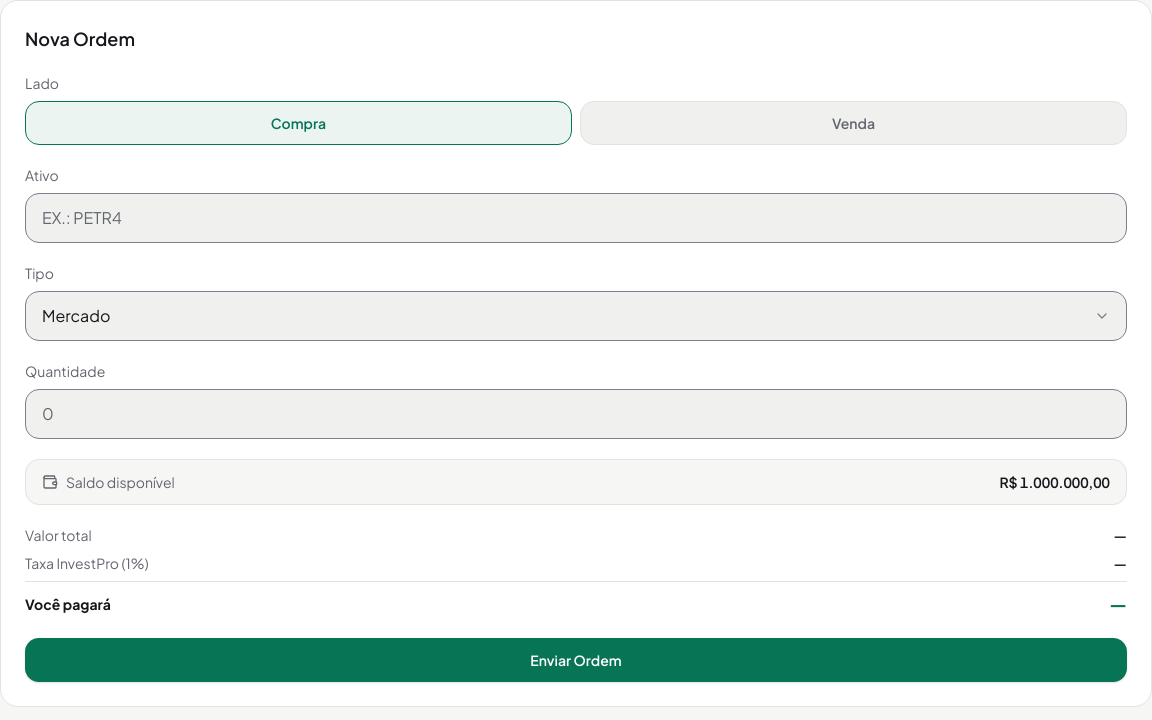
Test case: NewOrderForm › saldo verificado antes de enviar (compra) › venda a mercado só usa a posição livre (sem o que está em vendas abertas)
Click the button "Venda" at coordinates (854, 123), box [580, 101, 1127, 145]
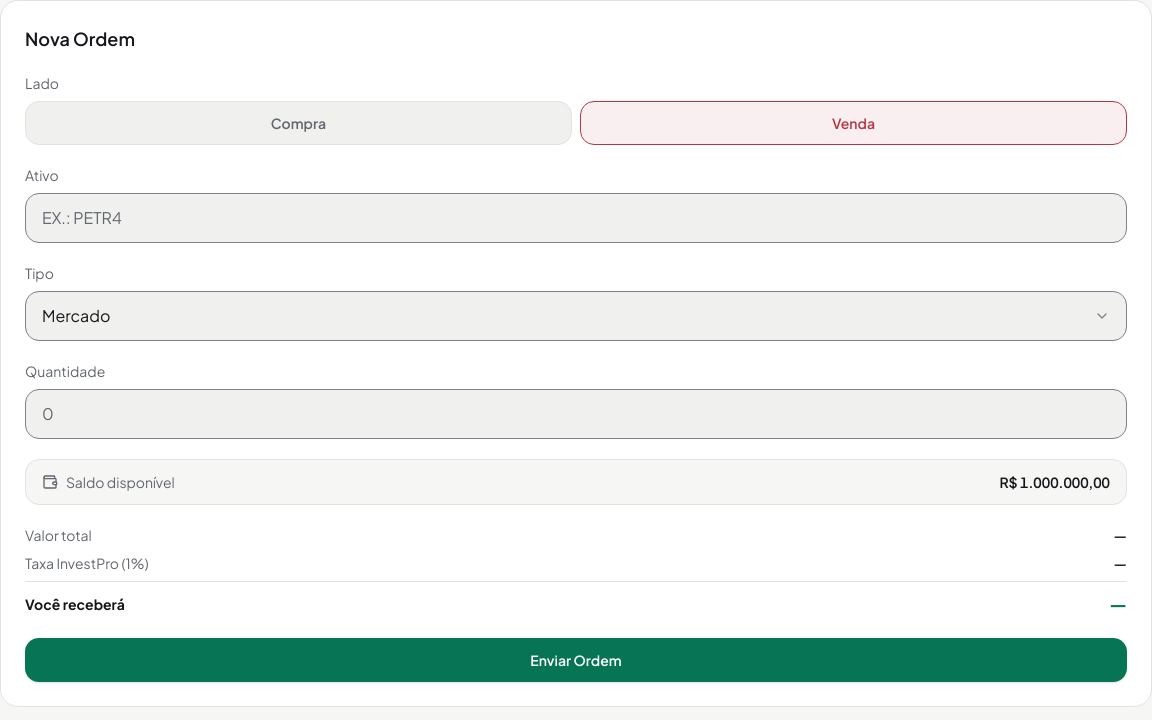
Type "PETR4" into the dropdown with placeholder "ex.: PETR4" at coordinates (576, 218), box [25, 193, 1127, 243]
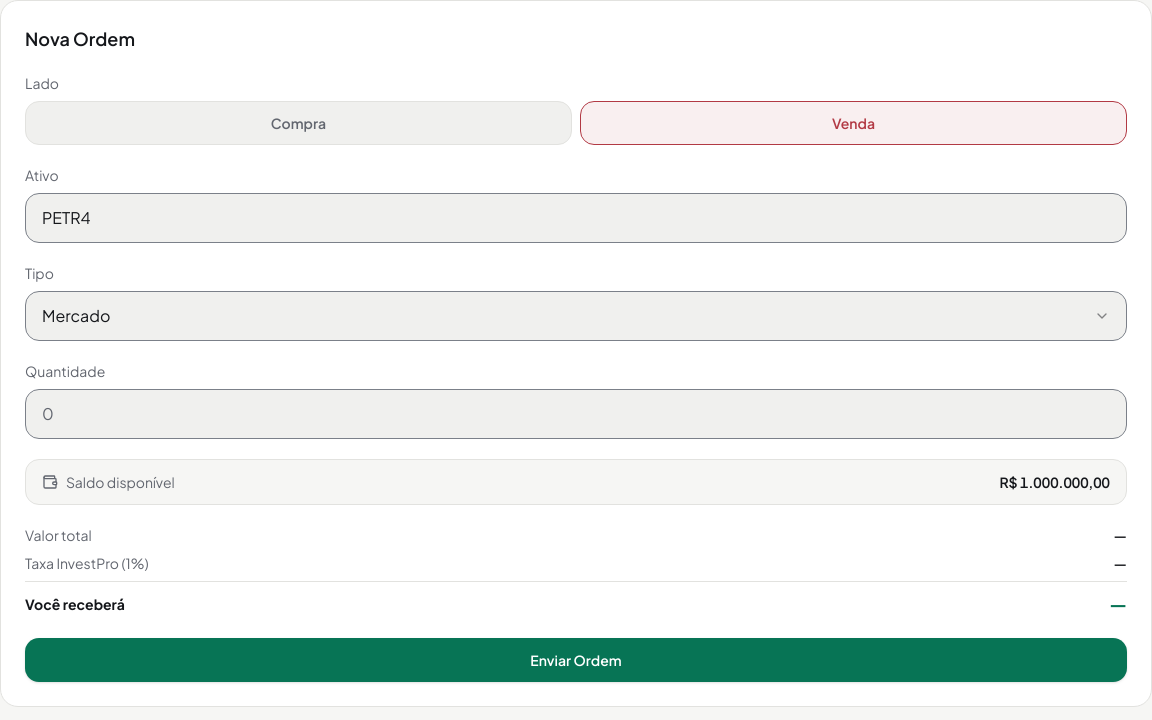
Type "10" into the field labelled "Quantidade" at coordinates (576, 414), box [25, 389, 1127, 439]
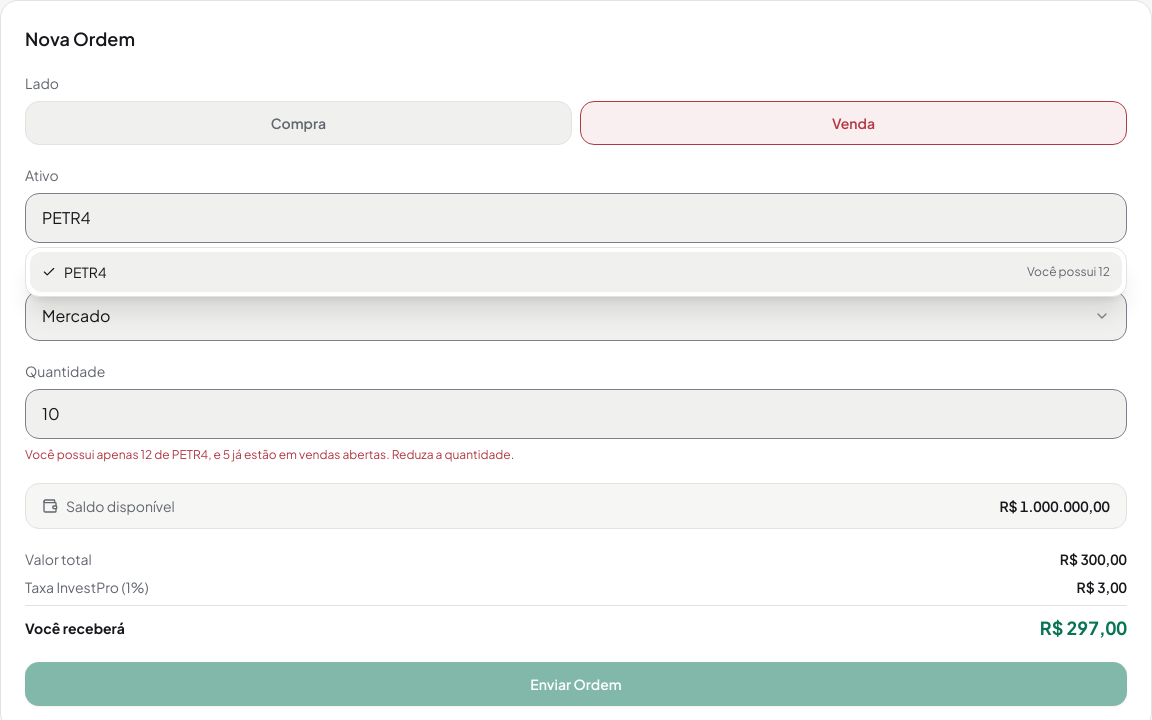
Result: the message shows "5 já estão em vendas abertas" at [25, 447, 514, 462]
Result: the button "Enviar Ordem" is disabled at [25, 662, 1127, 706]
